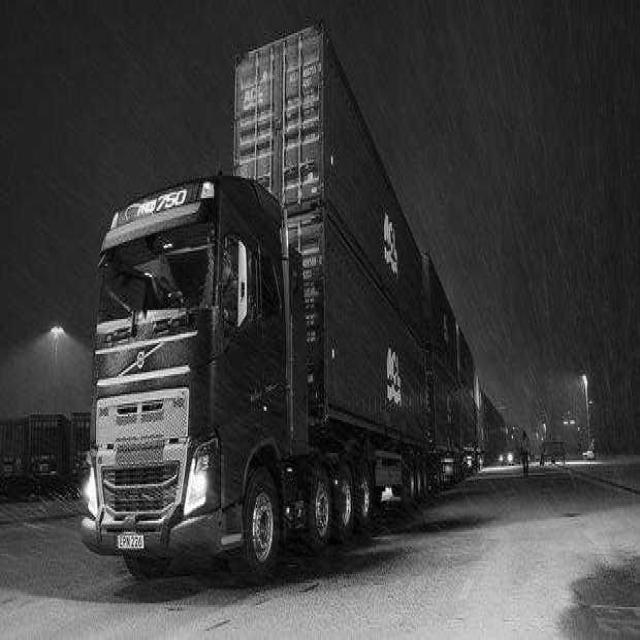Truck: (81, 178, 426, 576)
